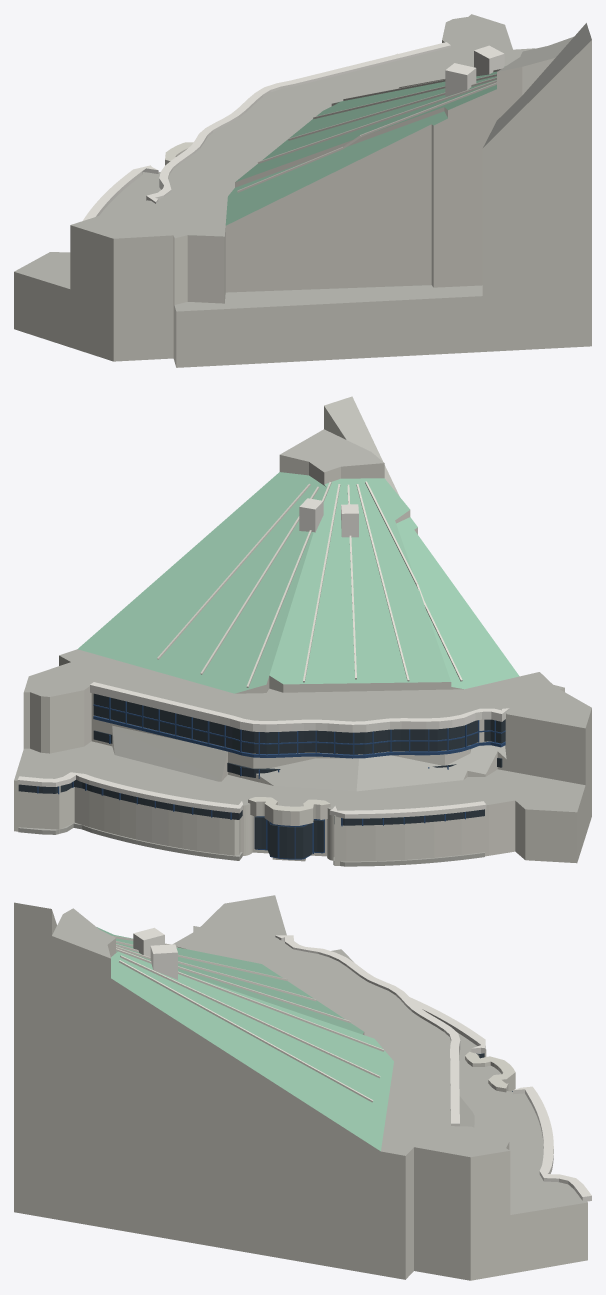
Rendered from tolstraat-160-tempel.glb.
The picture shows the model from 3 angles, top to bottom: view 1: azimuth 30°, elevation 25°; view 2: azimuth 150°, elevation 25°; view 3: azimuth 270°, elevation 25°; orthographic projection. The views are drawn at different scales.
Parts seen in each view (by area): view 1: tolstraat-160-tempel; view 2: tolstraat-160-tempel; view 3: tolstraat-160-tempel.
Boxes of the visible parts, bbox=[...] form: tolstraat-160-tempel: bbox=[14, 14, 591, 367]; tolstraat-160-tempel: bbox=[14, 396, 591, 866]; tolstraat-160-tempel: bbox=[14, 895, 591, 1280].
Size of the model in its own units: 36.19 by 19.11 by 32.32.
